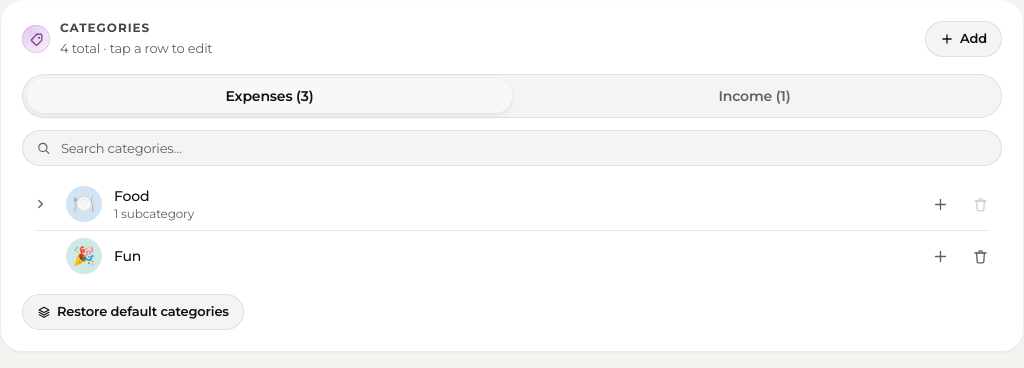
it: CategoriesCard › switches to the income categories
Click the radio button labelled "Income (1)".
click(754, 96)  # box [718, 86, 790, 104]
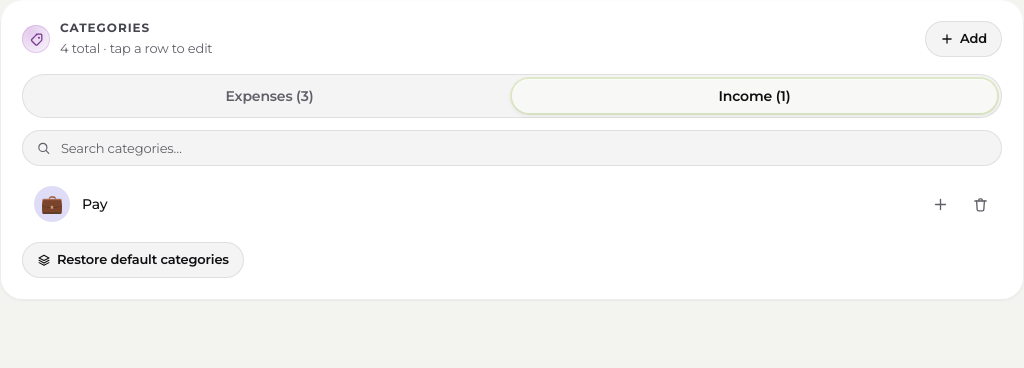
Check: the text "Pay" is shown, box [82, 195, 107, 213]
Check: the button "Fun" is gone
